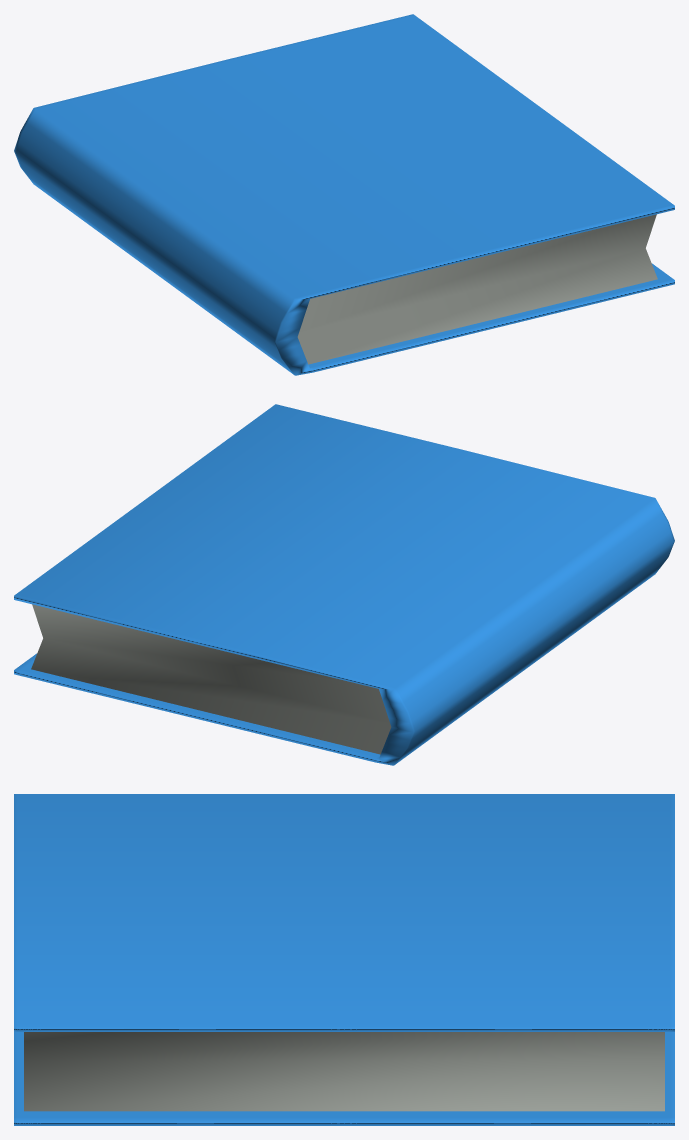
The model's file is cyanbook.fbx.
3 views of the same model, one above another, from view 1: azimuth 30°, elevation 25°; view 2: azimuth 150°, elevation 25°; view 3: azimuth 270°, elevation 25° (orthographic). The views are drawn at different scales.
Visible parts, largest first — view 1: Cube, Cube.001; view 2: Cube, Cube.001; view 3: Cube, Cube.001.
Part boxes in pixels (x1=…): Cube: x1=14, y1=14, x2=674, y2=375; Cube.001: x1=297, y1=214, x2=657, y2=364; Cube: x1=14, y1=404, x2=674, y2=765; Cube.001: x1=31, y1=604, x2=391, y2=754; Cube: x1=14, y1=794, x2=674, y2=1125; Cube.001: x1=24, y1=1032, x2=664, y2=1111.
Size of the model in its own units: 134 by 25.21 by 152.
